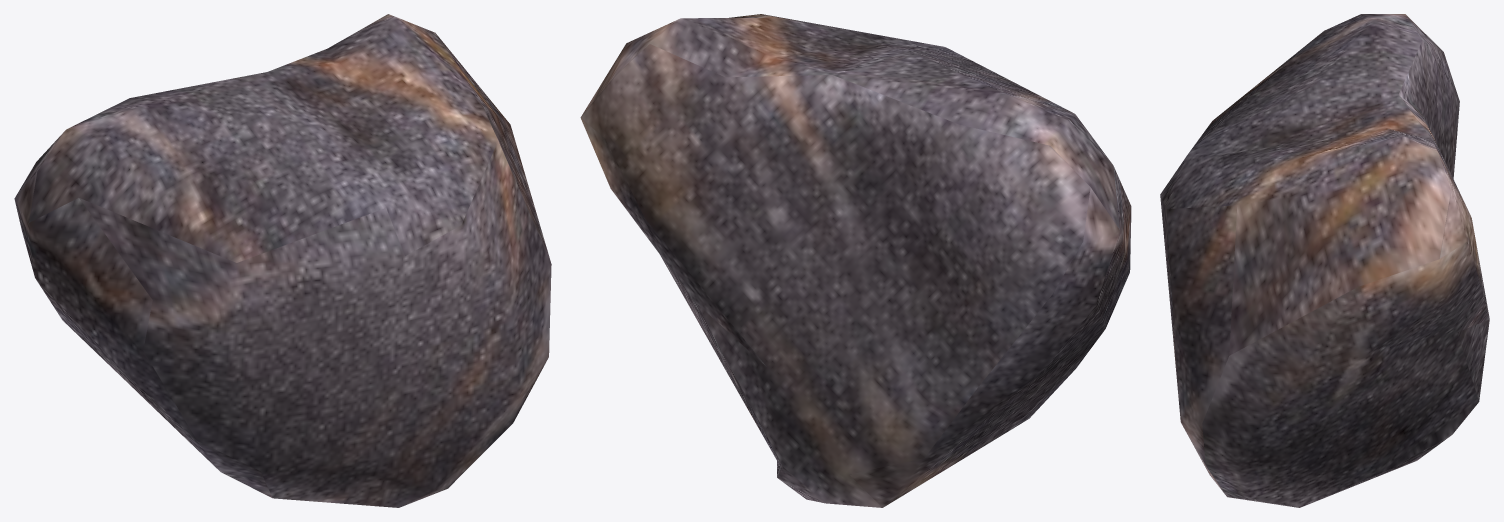
The model's file is rock.glb.
3 views of the same model, side by side, from view 1: azimuth 30°, elevation 25°; view 2: azimuth 150°, elevation 25°; view 3: azimuth 270°, elevation 25° (orthographic). The views are drawn at different scales.
Visible parts, largest first — view 1: rock069_lod4; view 2: rock069_lod4; view 3: rock069_lod4.
Boxes of the visible parts, <box> form: rock069_lod4: <box>14,14,551,507</box>; rock069_lod4: <box>580,14,1131,507</box>; rock069_lod4: <box>1160,14,1489,507</box>.
Bounding box in the file's own units: 1 × 0.8504 × 0.6329.
Materials: 1 (1 with a texture image).
